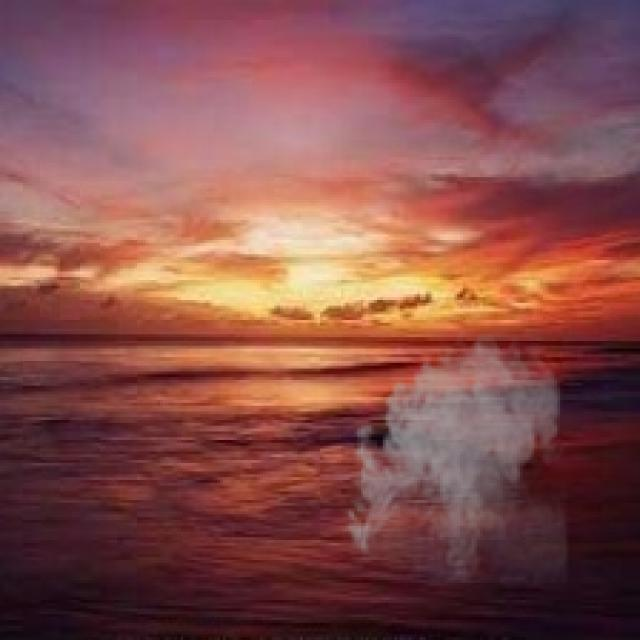smoke: (340, 326, 569, 583)
